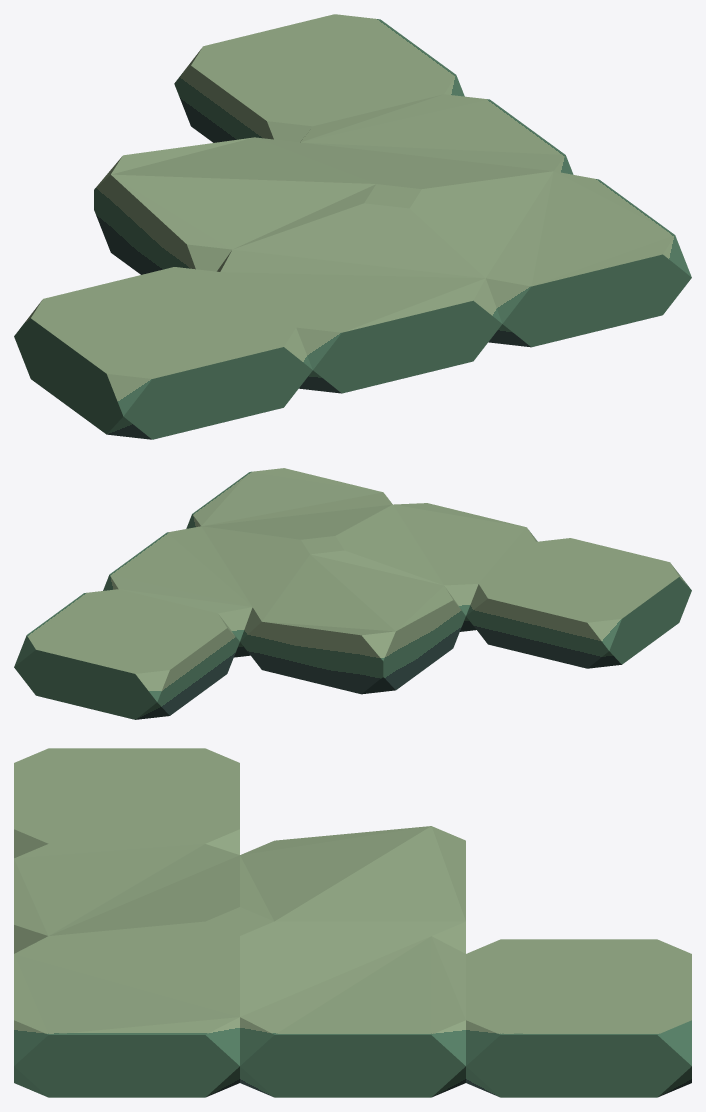
Rendered from Tiles 2.003.fbx.
3 renders of one model, top to bottom at view 1: azimuth 30°, elevation 25°; view 2: azimuth 150°, elevation 25°; view 3: azimuth 270°, elevation 25°, orthographic. The views are drawn at different scales.
Parts seen in each view (by area): view 1: Tiles 2.003; view 2: Tiles 2.003; view 3: Tiles 2.003.
Boxes of the visible parts, x1,y1,x2,y2 form: Tiles 2.003: (14,14,691,439); Tiles 2.003: (14,468,691,719); Tiles 2.003: (14,748,691,1097).
Size of the model in its own units: 495 by 64.97 by 495.
